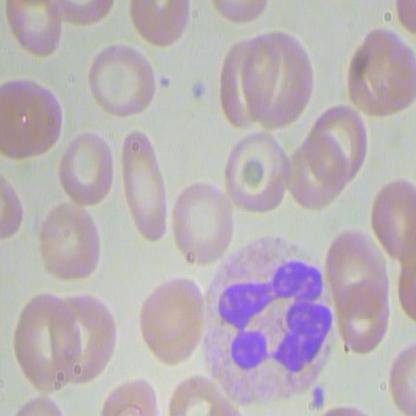Platelets: (311, 381, 328, 413), (189, 77, 209, 103)
RBC: (244, 27, 325, 132), (6, 285, 81, 393), (133, 271, 207, 368), (84, 35, 162, 122), (1, 68, 72, 162), (218, 129, 295, 213), (119, 125, 169, 249), (324, 223, 392, 313), (36, 202, 107, 288), (166, 183, 235, 268), (217, 35, 277, 132), (332, 279, 395, 359), (308, 105, 371, 182), (56, 133, 118, 211)
WBC: (192, 231, 337, 409)
